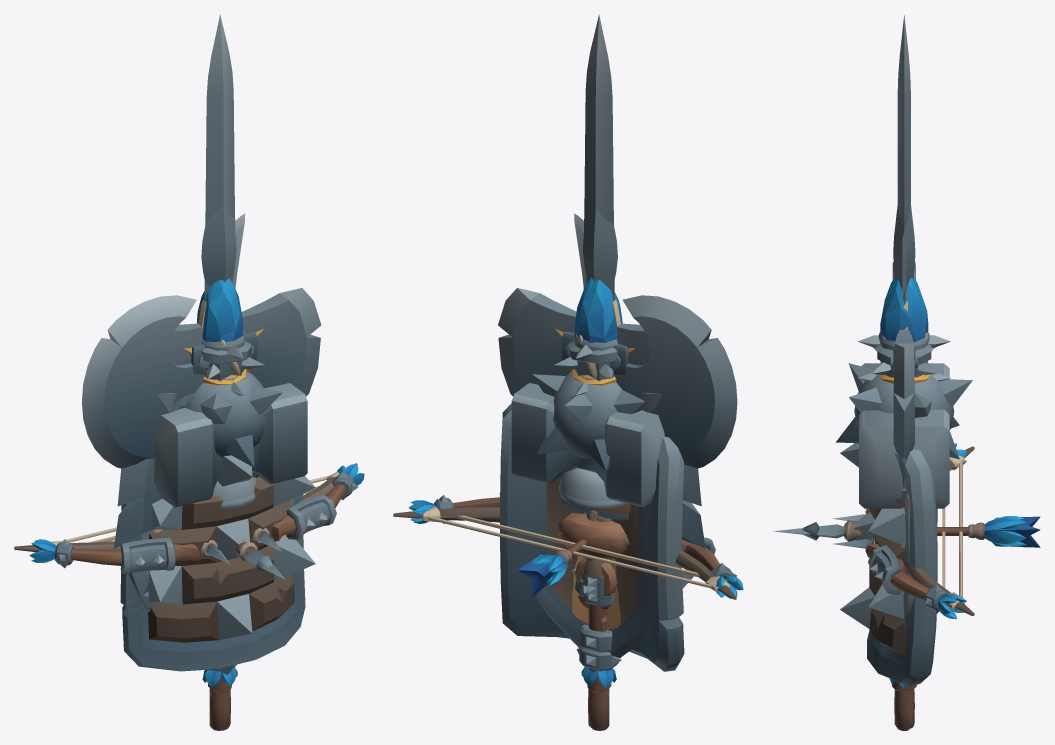
Rendered from weapons.glb.
3 views of the same model, side by side, from view 1: azimuth 30°, elevation 25°; view 2: azimuth 150°, elevation 25°; view 3: azimuth 270°, elevation 25° (orthographic).
Parts seen in each view (by area): view 1: shield_C__shield_C, halberd__halberd, hammer_A__hammer_A, axe_B__axe_B, bow_B_withString__bow_B_withString, sword_E__sword_E, hammer_B__hammer_B, axe_C__axe_C, staff_B__staff_B, spear_A__spear_A, bow_A_withString__bow_A_withString, hammer_C__hammer_C (+4 smaller); view 2: shield_C__shield_C, halberd__halberd, hammer_A__hammer_A, axe_B__axe_B, shield_B__shield_B, hammer_B__hammer_B, sword_E__sword_E, spear_A__spear_A, bow_B_withString__bow_B_withString, bow_A_withString__bow_A_withString, staff_B__staff_B, axe_C__axe_C (+7 smaller); view 3: shield_C__shield_C, hammer_A__hammer_A, hammer_B__hammer_B, bow_B_withString__bow_B_withString, axe_B__axe_B, staff_B__staff_B, sword_E__sword_E, arrow_B__arrow_B, bow_A_withString__bow_A_withString, spear_A__spear_A, hammer_C__hammer_C, arrow_A__arrow_A (+3 smaller).
Part boxes in pixels (x1,y1,x2,y2): shield_C__shield_C: (120, 455, 315, 671); halberd__halberd: (82, 295, 251, 468); hammer_A__hammer_A: (154, 383, 307, 507); axe_B__axe_B: (168, 288, 321, 409); bow_B_withString__bow_B_withString: (29, 464, 364, 574); sword_E__sword_E: (204, 14, 234, 301); hammer_B__hammer_B: (185, 371, 282, 467); axe_C__axe_C: (113, 393, 191, 548); staff_B__staff_B: (184, 278, 263, 692); spear_A__spear_A: (201, 207, 237, 696); bow_A_withString__bow_A_withString: (14, 463, 357, 552); hammer_C__hammer_C: (201, 330, 264, 395); shield_C__shield_C: (500, 403, 693, 671); halberd__halberd: (567, 295, 737, 652); hammer_A__hammer_A: (511, 383, 664, 560); axe_B__axe_B: (498, 288, 651, 609); shield_B__shield_B: (536, 476, 683, 657); hammer_B__hammer_B: (532, 371, 644, 608); sword_E__sword_E: (560, 14, 614, 477); spear_A__spear_A: (576, 207, 621, 696); bow_B_withString__bow_B_withString: (408, 493, 743, 598); bow_A_withString__bow_A_withString: (393, 507, 736, 599); staff_B__staff_B: (555, 277, 635, 692); axe_C__axe_C: (575, 393, 705, 608); shield_C__shield_C: (840, 443, 937, 687); hammer_A__hammer_A: (859, 363, 949, 508); hammer_B__hammer_B: (836, 361, 972, 459); bow_B_withString__bow_B_withString: (832, 443, 966, 619); axe_B__axe_B: (880, 329, 927, 480); staff_B__staff_B: (877, 278, 930, 690); sword_E__sword_E: (897, 15, 910, 499); arrow_B__arrow_B: (773, 516, 1026, 546); bow_A_withString__bow_A_withString: (905, 446, 974, 615); spear_A__spear_A: (889, 205, 915, 697); hammer_C__hammer_C: (857, 332, 950, 381); arrow_A__arrow_A: (802, 516, 1040, 547).
Size of the model in its own units: 1.96 by 3.9 by 1.33.
Materials: 1 (1 with a texture image).
